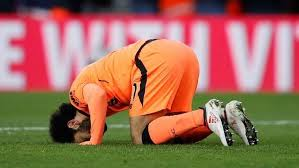sujud: (50, 39, 263, 148)
